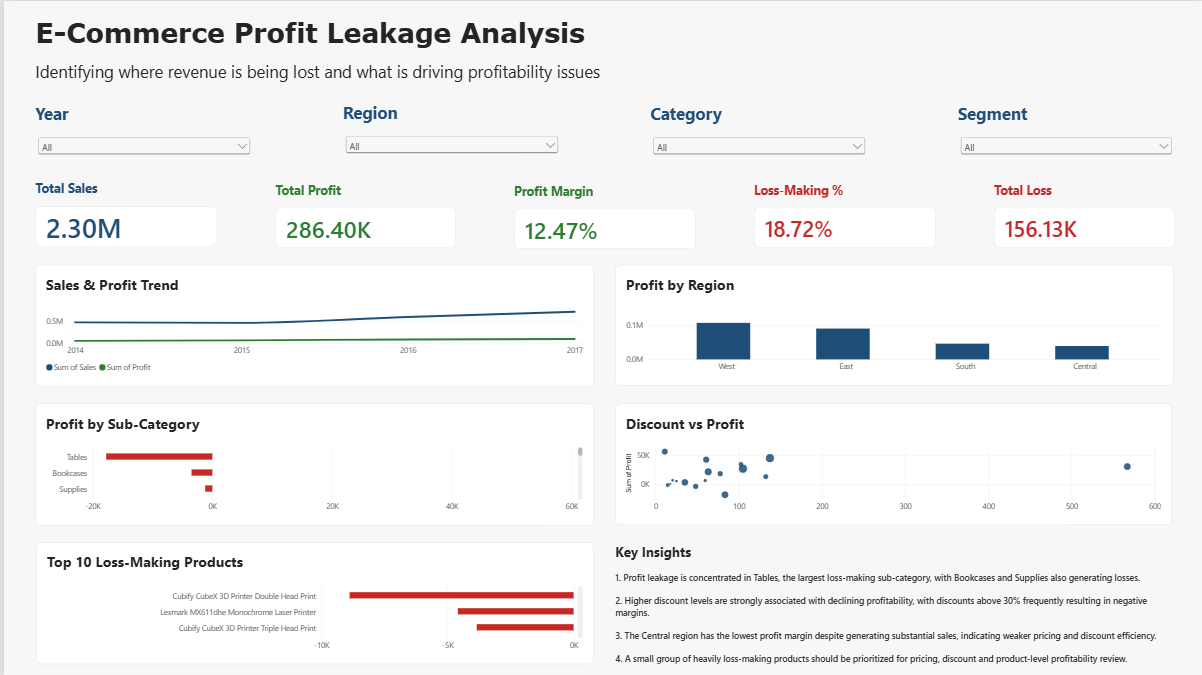

The page's visual inventory and layout, read from the dashboard file:
{"tool":"powerbi","page":{"name":"Page 1","canvas":[1920,1080],"ordinal":0},"visuals":[{"type":"cardVisual","title":"Total Sales","fields":{"Data":["Sum(superstore_cleaned1.Sales)"]},"box":[50,287,291.3,106.5],"z":0},{"type":"cardVisual","title":"Total Profit","fields":{"Data":["Sum(superstore_cleaned1.Profit)"]},"box":[434.2,287.5,289.1,106.5],"z":1000},{"type":"cardVisual","title":"Profit Margin","fields":{"Data":["superstore_cleaned1.Overall Profit Margin"]},"box":[816.3,289.1,291.3,106.5],"z":2000},{"type":"cardVisual","title":"Loss-Making %","fields":{"Data":["superstore_cleaned1.Loss Making %"]},"box":[1200.5,288.6,291.3,106.5],"z":3000},{"type":"cardVisual","title":"Total Loss","fields":{"Data":["Sum(superstore_cleaned1.Loss Amount)"]},"box":[1584.8,288,289.1,106.5],"z":4000},{"type":"clusteredBarChart","title":"Profit by Sub-Category","fields":{"Category":["superstore_cleaned1.Sub-Category"],"Y":["Sum(superstore_cleaned1.Profit)"]},"box":[50.8,644.1,893.2,194.9],"z":5000},{"type":"clusteredColumnChart","title":"Profit by Region","fields":{"Category":["superstore_cleaned1.Region"],"Y":["Sum(superstore_cleaned1.Profit)"]},"box":[978.8,421.2,893.2,193.2],"z":6000},{"type":"lineChart","title":"Sales & Profit Trend","fields":{"Category":["superstore_cleaned1.Order Date.Variation.Date Hierarchy.Year","superstore_cleaned1.Order Date.Variation.Date Hierarchy.Quarter","superstore_cleaned1.Order Date.Variation.Date Hierarchy.Month","superstore_cleaned1.Order Date.Variation.Date Hierarchy.Day"],"Y":["Sum(superstore_cleaned1.Sales)","Sum(superstore_cleaned1.Profit)"]},"box":[50.8,422,893.2,194.9],"z":7000},{"type":"scatterChart","title":"Discount vs Profit","fields":{"Category":["superstore_cleaned1.Sub-Category"],"Size":["Sum(superstore_cleaned1.Sales)"],"X":["Sum(superstore_cleaned1.Discount)"],"Y":["Sum(superstore_cleaned1.Profit)"]},"box":[978.8,644.2,890.4,194.2],"z":8000},{"type":"clusteredBarChart","title":"Top 10 Loss-Making Products","fields":{"Category":["superstore_cleaned1.Product Name"],"Y":["Sum(superstore_cleaned1.Profit)"]},"box":[52.5,866.1,891.5,194.9],"z":9000},{"type":"slicer","title":"Year","fields":{"Values":["superstore_cleaned1.Year"]},"box":[50,161.4,349.3,112.2],"z":10000},{"type":"slicer","title":"Region","fields":{"Values":["superstore_cleaned1.Region"]},"box":[541.8,161,350,113],"z":11000},{"type":"slicer","title":"Category","fields":{"Values":["superstore_cleaned1.Category"]},"box":[1034.3,161.4,349.3,112.2],"z":12000},{"type":"slicer","title":"Segment","fields":{"Values":["superstore_cleaned1.Segment"]},"box":[1526.1,161.4,347.5,112.2],"z":13000},{"type":"textbox","box":[50,23.9,910.9,113],"z":15000},{"type":"textbox","box":[978.8,865.4,890.4,194.2],"z":15001}]}

Visuals, with their boxes in screenshot pixels (x1, y1, x2, y2), scaled from the page's 1920x1080 canvas onto the 1202x675 screenshot:
"Total Sales" cardVisual: region(31, 179, 214, 246)
"Total Profit" cardVisual: region(272, 180, 453, 246)
"Profit Margin" cardVisual: region(511, 181, 693, 247)
"Loss-Making %" cardVisual: region(752, 180, 934, 247)
"Total Loss" cardVisual: region(992, 180, 1173, 247)
"Profit by Sub-Category" clusteredBarChart: region(32, 403, 591, 524)
"Profit by Region" clusteredColumnChart: region(613, 263, 1172, 384)
"Sales & Profit Trend" lineChart: region(32, 264, 591, 386)
"Discount vs Profit" scatterChart: region(613, 403, 1170, 524)
"Top 10 Loss-Making Products" clusteredBarChart: region(33, 541, 591, 663)
"Year" slicer: region(31, 101, 250, 171)
"Region" slicer: region(339, 101, 558, 171)
"Category" slicer: region(648, 101, 866, 171)
"Segment" slicer: region(955, 101, 1173, 171)
textbox: region(31, 15, 602, 86)
textbox: region(613, 541, 1170, 662)
